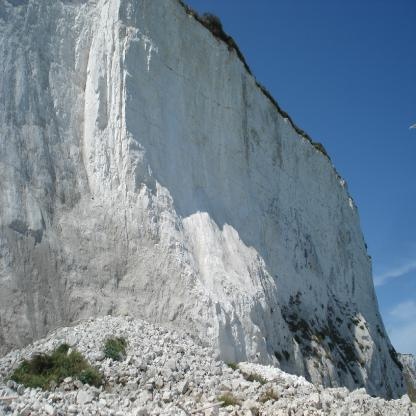Sedimentary_Chalk: (84, 6, 179, 308), (0, 7, 78, 295), (189, 219, 281, 359)
